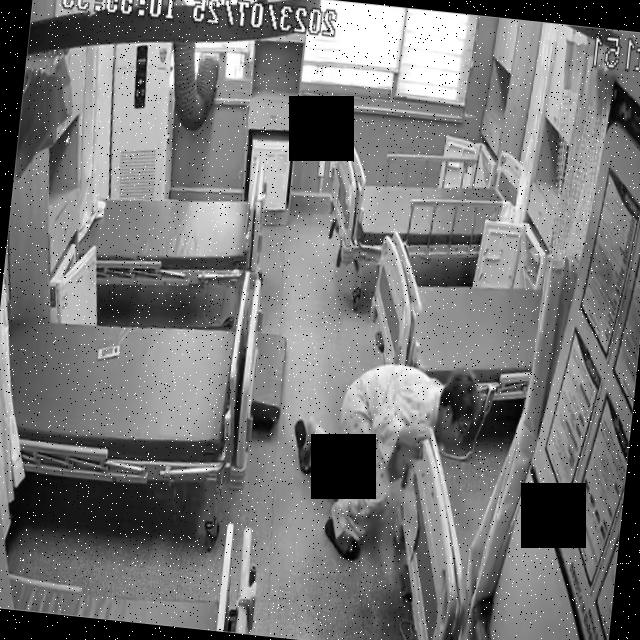bed: (0, 294, 242, 492), (357, 228, 547, 422), (326, 134, 523, 274), (74, 158, 266, 298)
fall: (282, 351, 486, 574)
patient: (280, 350, 486, 575)
